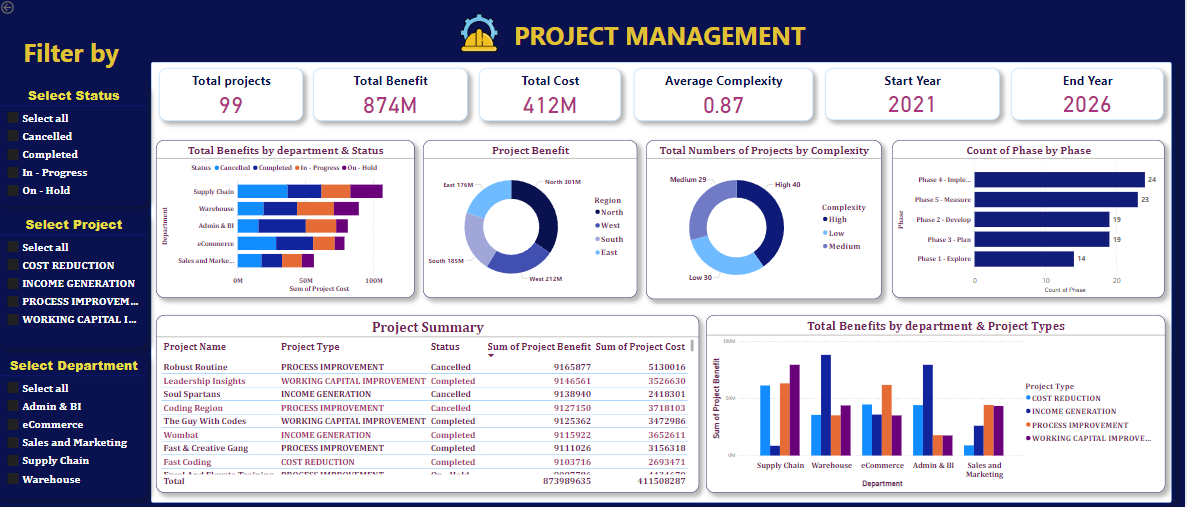

What the dashboard file says about the page in this screenshot:
{"tool":"powerbi","page":{"name":"Dashboard","canvas":[2800,1200],"ordinal":0},"visuals":[{"type":"shape","box":[350,140,2430,1060],"z":0},{"type":"textbox","box":[717.5,40,1645,97.5],"z":1000},{"type":"image","box":[1042.5,27.5,185,102.5],"z":2000},{"type":"lineClusteredColumnComboChart","title":"Total Benefits by department & Project Types","fields":{"Category":["Project Management Dataset.Department"],"Y":["Sum(Project Management Dataset. Project Benefit )"],"Series":["Project Management Dataset.Project Type"]},"box":[1670,747.5,1085,420],"z":3000},{"type":"barChart","title":"Total Benefits by department & Status","fields":{"Category":["Project Management Dataset.Department"],"Y":["Sum(Project Management Dataset. Project Cost )"],"Series":["Project Management Dataset.Status"]},"box":[370.3,334.2,611.2,373.3],"z":4000},{"type":"donutChart","title":"Total Numbers of Projects by Complexity","fields":{"Category":["Project Management Dataset.Complexity"],"Y":["Count(Project Management Dataset.Project Name)"]},"box":[1529.5,334.2,557,376.3],"z":5000},{"type":"card","title":"Total Benefit","fields":{"Values":["Sum(Project Management Dataset. Project Benefit )"]},"box":[742.5,162.5,365,125],"z":6000},{"type":"card","title":"Total Cost","fields":{"Values":["Sum(Project Management Dataset. Project Cost )"]},"box":[1135,162.5,335,125],"z":7000},{"type":"card","title":"Average Complexity","fields":{"Values":["Avg(Project Management Dataset.Completion%)"]},"box":[1500,162.5,422.5,125],"z":8000},{"type":"card","title":"Start Year","fields":{"Values":["Min(Project Management Dataset.Start Date.Variation.Date Hierarchy.Year)"]},"box":[1950,162.5,412.5,122.5],"z":9000},{"type":"card","title":"End Year","fields":{"Values":["Max(Project Management Dataset.End Date.Variation.Date Hierarchy.Year)"]},"box":[2390,162.5,360,122.5],"z":10000},{"type":"card","title":"Total projects","fields":{"Values":["Count(Project Management Dataset.Project Name)"]},"box":[377.5,162.5,340,125],"z":11000},{"type":"donutChart","title":"Project Benefit","fields":{"Category":["Project Management Dataset.Region"],"Y":["Sum(Project Management Dataset. Project Benefit )"]},"box":[1002.6,334.2,505.8,373.3],"z":12000},{"type":"slicer","title":"Select Department","fields":{"Values":["Project Management Dataset.Department"]},"box":[0,836.6,351.2,343.9],"z":13000},{"type":"slicer","title":"Select Project ","fields":{"Values":["Project Management Dataset.Project Type"]},"box":[0,502.4,351.2,319.5],"z":14000},{"type":"slicer","title":"Select Status","fields":{"Values":["Project Management Dataset.Status"]},"box":[0,197.6,351.2,290.2],"z":15000},{"type":"textbox","box":[0,80.3,300,118.1],"z":16000},{"type":"clusteredBarChart","fields":{"Category":["Project Management Dataset.Phase"],"Y":["CountNonNull(Project Management Dataset.Phase)"]},"box":[2110.5,334.2,644.3,373.3],"z":17000},{"type":"tableEx","title":"Project Summary","fields":{"Values":["Project Management Dataset.Project Name","Project Management Dataset.Project Type","Project Management Dataset.Status","Sum(Project Management Dataset. Project Benefit )","Sum(Project Management Dataset. Project Cost )"]},"box":[370,747.5,1282.5,420],"z":18000},{"type":"actionButton","box":[0,0,100,40],"z":19000}]}

Visuals, with their boxes in screenshot pixels (x1, y1, x2, y2), scaled from the page's 2800x1200 canvas onto the 1187x507 screenshot:
shape: select_region(148, 59, 1179, 506)
textbox: select_region(304, 17, 1002, 58)
image: select_region(442, 12, 520, 55)
"Total Benefits by department & Project Types" lineClusteredColumnComboChart: select_region(708, 316, 1168, 493)
"Total Benefits by department & Status" barChart: select_region(157, 141, 416, 299)
"Total Numbers of Projects by Complexity" donutChart: select_region(648, 141, 885, 300)
"Total Benefit" card: select_region(315, 69, 470, 121)
"Total Cost" card: select_region(481, 69, 623, 121)
"Average Complexity" card: select_region(636, 69, 815, 121)
"Start Year" card: select_region(827, 69, 1002, 120)
"End Year" card: select_region(1013, 69, 1166, 120)
"Total projects" card: select_region(160, 69, 304, 121)
"Project Benefit" donutChart: select_region(425, 141, 639, 299)
"Select Department" slicer: select_region(0, 353, 149, 499)
"Select Project " slicer: select_region(0, 212, 149, 347)
"Select Status" slicer: select_region(0, 83, 149, 206)
textbox: select_region(0, 34, 127, 84)
clusteredBarChart - Project Management Dataset.Phase x CountNonNull(Project Management Dataset.Phase): select_region(895, 141, 1168, 299)
"Project Summary" tableEx: select_region(157, 316, 701, 493)
actionButton: select_region(0, 0, 42, 17)
